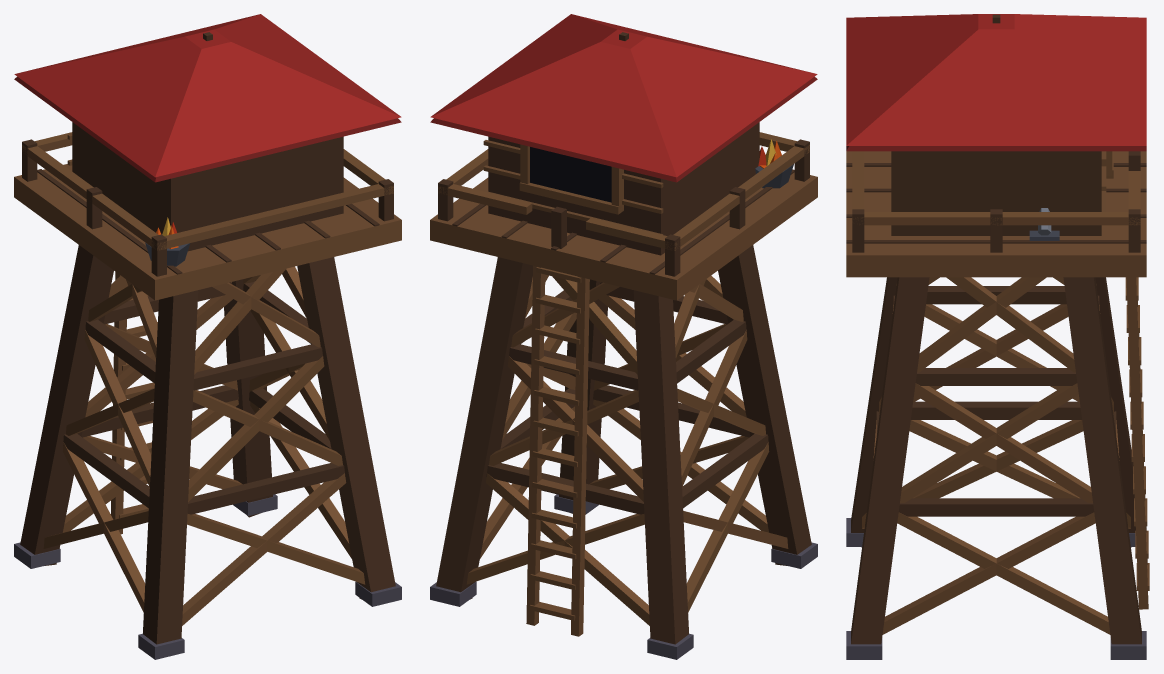
File: Decor_Volcano_Watchtower.fbx
The picture shows the model from 3 angles, left to right: view 1: azimuth 30°, elevation 25°; view 2: azimuth 150°, elevation 25°; view 3: azimuth 270°, elevation 25°; orthographic projection. The views are drawn at different scales.
Parts seen in each view (by area): view 1: Watchtower_Body; view 2: Watchtower_Body; view 3: Watchtower_Body.
Boxes of the visible parts, <box> form: Watchtower_Body: <box>14,14,401,659</box>; Watchtower_Body: <box>430,14,817,659</box>; Watchtower_Body: <box>846,14,1149,659</box>.
Size of the model in its own units: 10 by 21.2 by 10.
